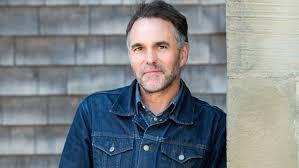Persons: (119, 1, 198, 100)
